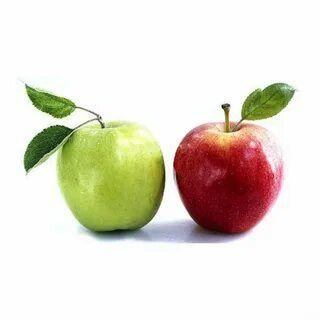Apple: (172, 120, 284, 234), (56, 122, 165, 231)
